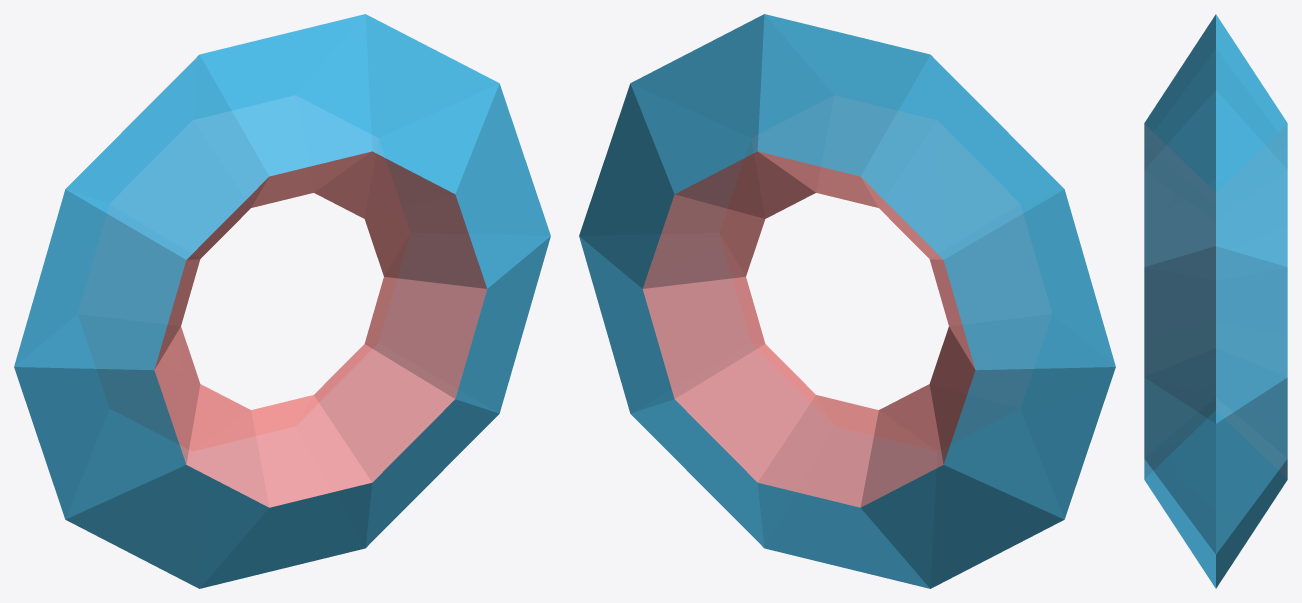
The model's file is Regular10TetragonalToroid.obj.
The picture shows the model from 3 angles, left to right: view 1: azimuth 30°, elevation 25°; view 2: azimuth 150°, elevation 25°; view 3: azimuth 270°, elevation 25°; orthographic projection. The views are drawn at different scales.
Size of the model in its own units: 2.83 by 2.69 by 0.7.
